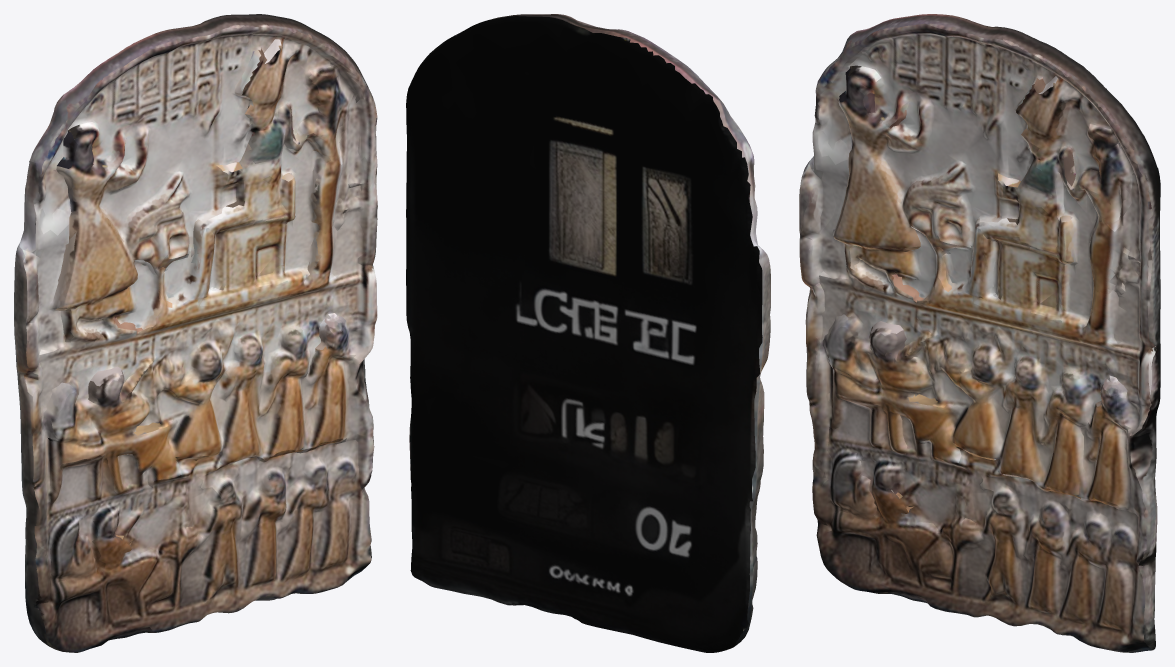
Rendered from sohag1.glb.
The picture shows the model from 3 angles, left to right: view 1: azimuth 30°, elevation 25°; view 2: azimuth 150°, elevation 25°; view 3: azimuth 330°, elevation 25°; orthographic projection.
Parts seen in each view (by area): view 1: tmp7qiu5k4d.ply; view 2: tmp7qiu5k4d.ply; view 3: tmp7qiu5k4d.ply.
Boxes of the visible parts, bbox=[...] form: tmp7qiu5k4d.ply: bbox=[14, 14, 377, 652]; tmp7qiu5k4d.ply: bbox=[406, 14, 770, 652]; tmp7qiu5k4d.ply: bbox=[799, 14, 1160, 652].
Bounding box in the file's own units: 1.22 × 1.96 × 0.0925.
Materials: 1 (1 with a texture image).
